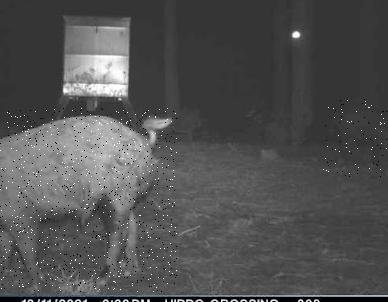Hog: (0, 108, 177, 292), (322, 98, 388, 177)
